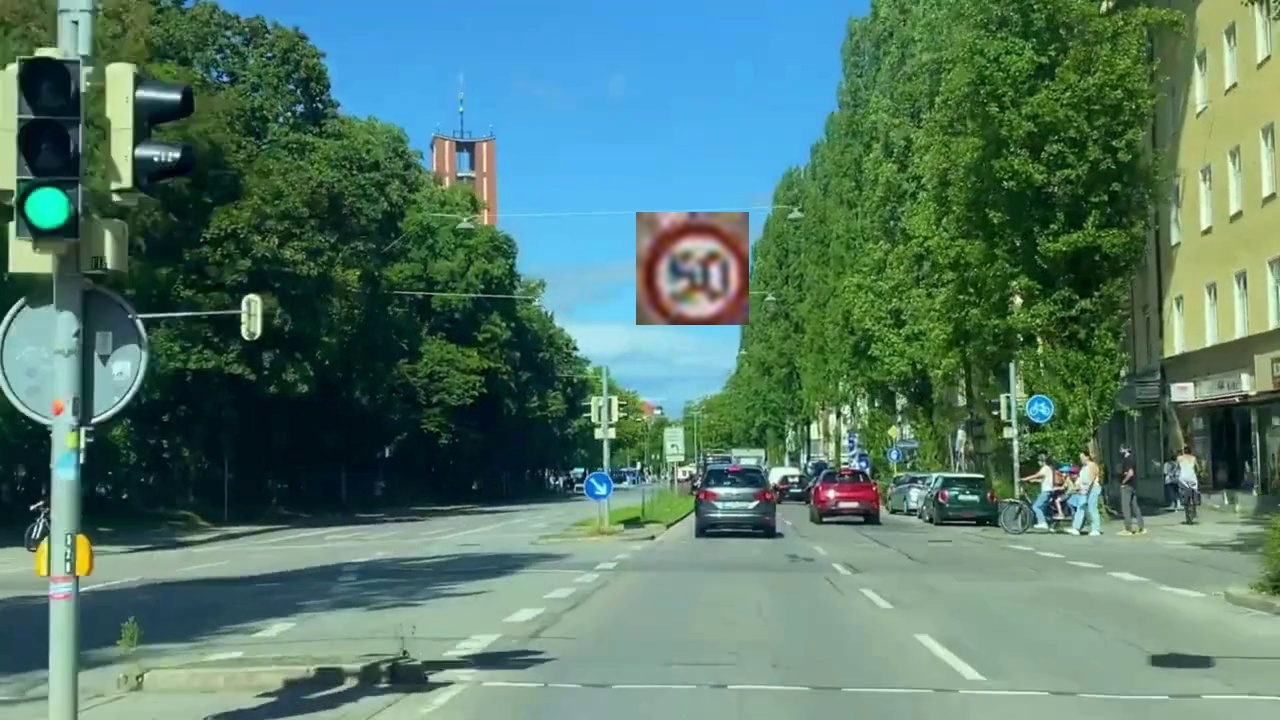Speed 50: (636, 212, 749, 325)
